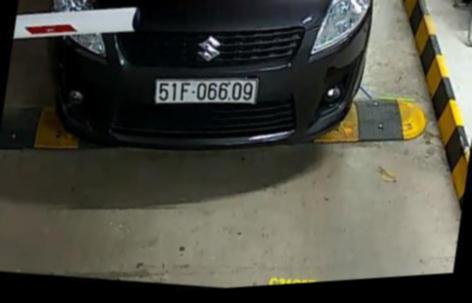License_Plate: (150, 66, 265, 124)
